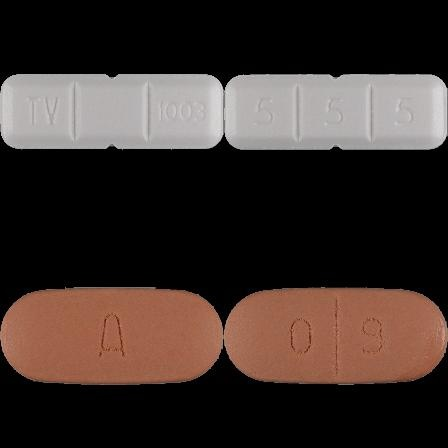63187-402: (0, 0, 224, 224)
